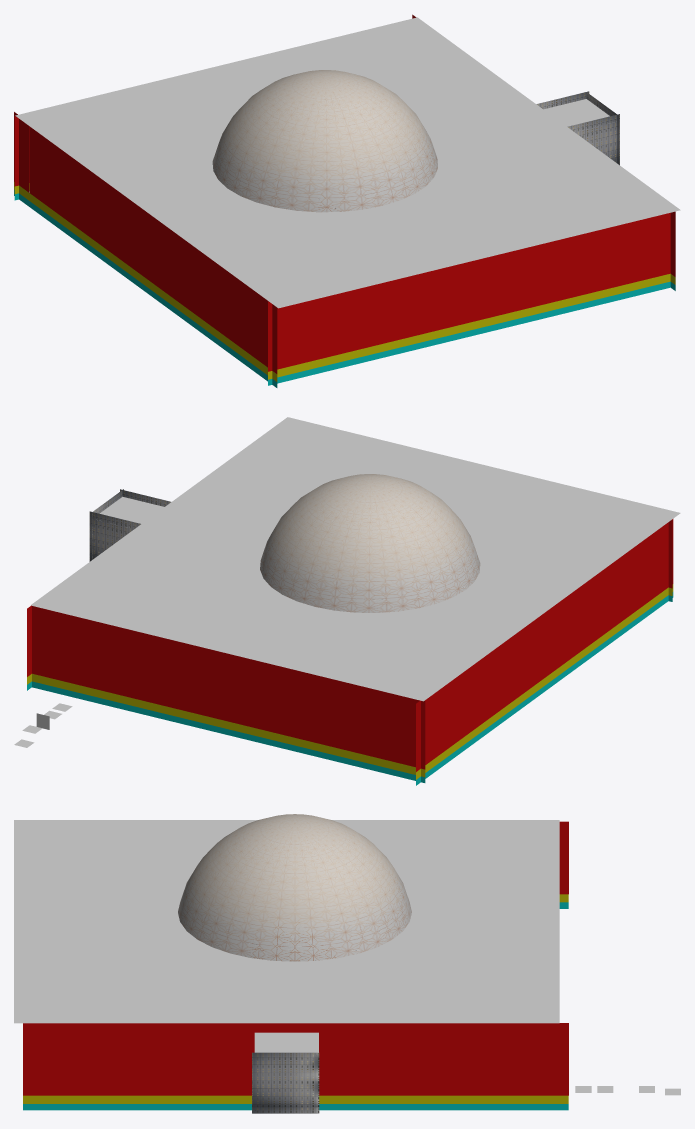
File: casino_final 1.fbx
3 renders of one model, top to bottom at view 1: azimuth 30°, elevation 25°; view 2: azimuth 150°, elevation 25°; view 3: azimuth 270°, elevation 25°, orthographic. The views are drawn at different scales.
Parts seen in each view (by area): view 1: Techo_marmol.007, pared madera, Sphere.001, pared madera.001, pared madera.003, pared madera.002, Plane.003, Plane.001; view 2: Techo_marmol.007, pared madera, Sphere.001, pared madera.001, pared madera.002, pared madera.003, Plane.007, Plane.001; view 3: Techo_marmol.007, pared madera.004, Sphere.001, pared madera.005, pared madera.006, Plane.004, Plane.001, pared madera.003.
Boxes of the visible parts, x1,y1,x2,y2 form: Techo_marmol.007: [15, 17, 680, 308]; pared madera: [14, 116, 670, 385]; Sphere.001: [212, 70, 437, 212]; pared madera.001: [37, 132, 254, 371]; pared madera.003: [14, 112, 37, 212]; pared madera.002: [254, 291, 277, 387]; Plane.003: [567, 114, 619, 165]; Plane.001: [543, 99, 609, 126]; Techo_marmol.007: [30, 417, 680, 701]; pared madera: [32, 520, 672, 782]; Sphere.001: [260, 474, 480, 612]; pared madera.001: [438, 535, 650, 768]; pared madera.002: [650, 519, 673, 613]; pared madera.003: [416, 690, 438, 785]; Plane.007: [89, 511, 140, 561]; Plane.001: [100, 496, 164, 523]; Techo_marmol.007: [14, 820, 559, 1023]; pared madera.004: [71, 1023, 520, 1110]; Sphere.001: [178, 814, 411, 961]; pared madera.005: [520, 1023, 568, 1110]; pared madera.006: [23, 1023, 71, 1110]; Plane.004: [252, 1052, 319, 1113]; Plane.001: [254, 1032, 318, 1052]; pared madera.003: [559, 821, 568, 908].
Size of the model in its own units: 6839 by 2513 by 8310.
